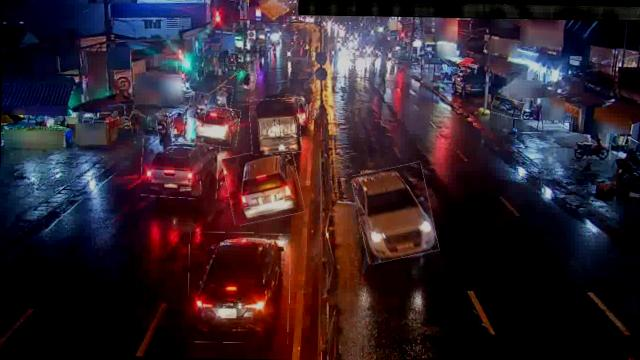Bike: (156, 113, 174, 152), (491, 97, 524, 118), (188, 92, 208, 120), (577, 144, 610, 160), (172, 109, 184, 142), (216, 85, 232, 108), (240, 72, 256, 88)
Car: (186, 231, 290, 344), (354, 165, 436, 262), (224, 147, 302, 223), (141, 137, 219, 198), (190, 104, 240, 146)
Truck: (249, 96, 301, 154)
